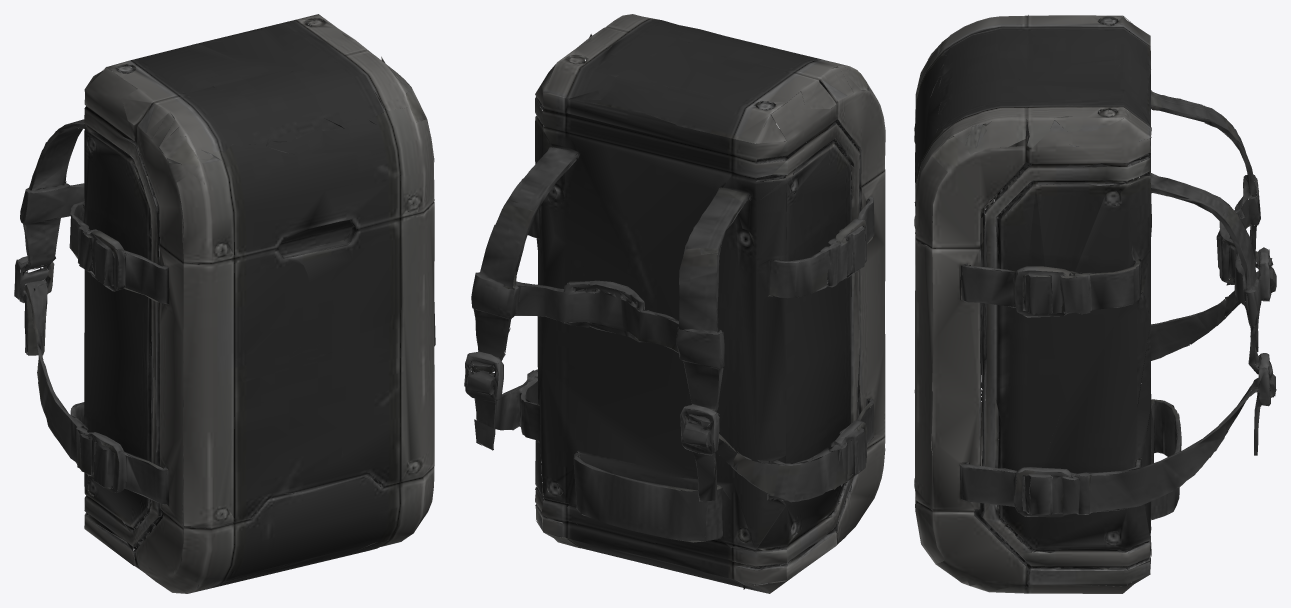
Rendered from piece_acc_backpack.glb.
The picture shows the model from 3 angles, left to right: view 1: azimuth 30°, elevation 25°; view 2: azimuth 150°, elevation 25°; view 3: azimuth 270°, elevation 25°; orthographic projection.
Visible parts, largest first — view 1: trait_acc_backpack; view 2: trait_acc_backpack; view 3: trait_acc_backpack.
Boxes of the visible parts, x1,y1,x2,y2 form: trait_acc_backpack: (14, 14, 435, 593); trait_acc_backpack: (464, 14, 885, 593); trait_acc_backpack: (914, 15, 1276, 593).
Bounding box in the file's own units: 0.5468 × 0.8055 × 0.5538.
1 material, 1 textured.
